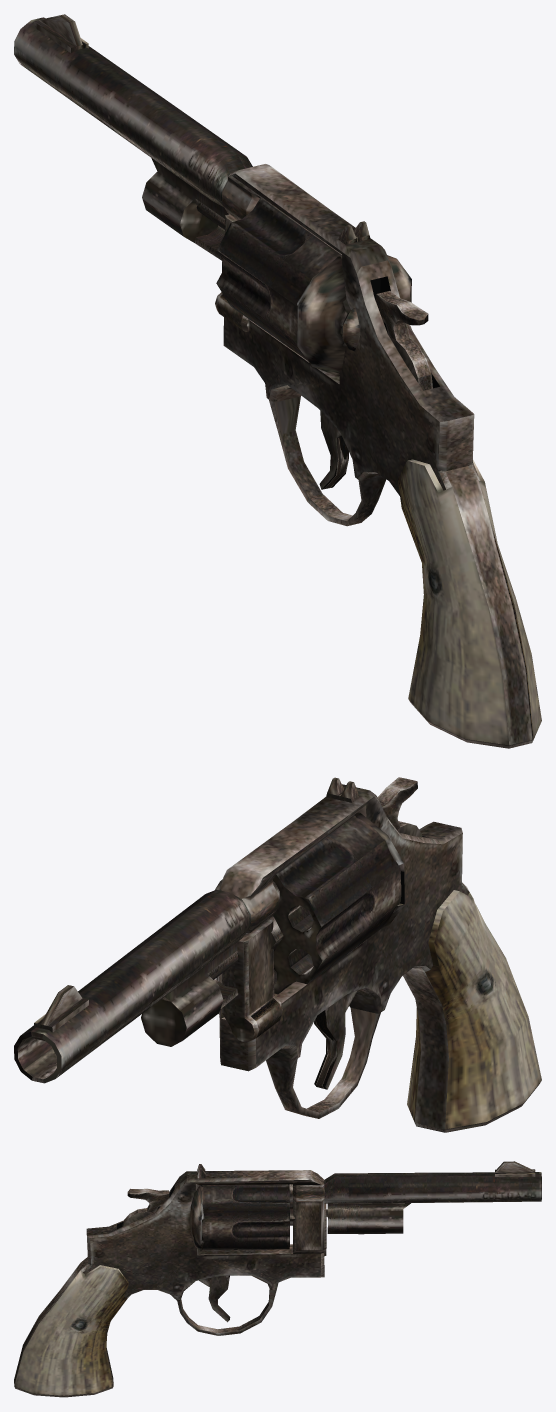
The model's file is Revolver.FBX.
3 renders of one model, top to bottom at view 1: azimuth 30°, elevation 25°; view 2: azimuth 150°, elevation 25°; view 3: azimuth 270°, elevation 25°, orthographic. The views are drawn at different scales.
Visible parts, largest first — view 1: DrawCall_0510, DrawCall_0509, DrawCall_0508, DrawCall_0511; view 2: DrawCall_0510, DrawCall_0509, DrawCall_0511, DrawCall_0508; view 3: DrawCall_0510, DrawCall_0509, DrawCall_0508, DrawCall_0511.
Part boxes in pixels (box(x1,y1,x2,y2)): DrawCall_0510: box(14, 14, 541, 748); DrawCall_0509: box(196, 198, 341, 360); DrawCall_0508: box(376, 291, 432, 390); DrawCall_0511: box(319, 411, 348, 489); DrawCall_0510: box(14, 777, 541, 1132); DrawCall_0509: box(211, 815, 401, 1042); DrawCall_0511: box(314, 991, 356, 1089); DrawCall_0508: box(377, 777, 422, 836); DrawCall_0510: box(14, 1161, 541, 1397); DrawCall_0509: box(202, 1184, 327, 1256); DrawCall_0508: box(122, 1188, 169, 1226); DrawCall_0511: box(199, 1275, 230, 1322).
Size of the model in its own units: 7.59 by 25.16 by 54.3.
Materials: 1 (1 with a texture image).
